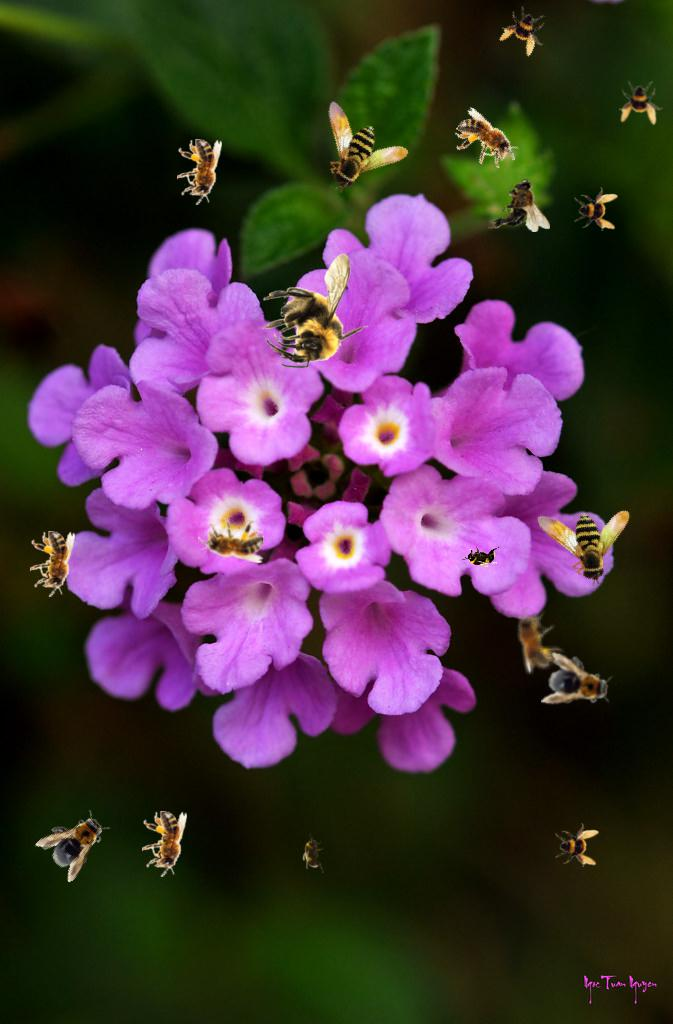Bee: (521, 473, 639, 589), (303, 81, 413, 195), (262, 253, 369, 368), (33, 798, 119, 884), (447, 105, 527, 178), (502, 599, 570, 678), (541, 651, 617, 715), (495, 1, 555, 61), (488, 179, 550, 232), (142, 811, 187, 877), (177, 139, 222, 205), (198, 518, 264, 563), (30, 531, 75, 597), (619, 81, 663, 125), (574, 187, 618, 231), (555, 823, 599, 867), (302, 833, 324, 873), (461, 546, 501, 568)
